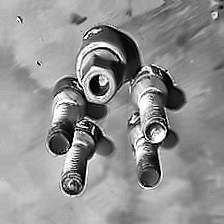tiny_holes: (209, 8, 221, 25), (13, 12, 26, 27), (34, 58, 46, 69)
